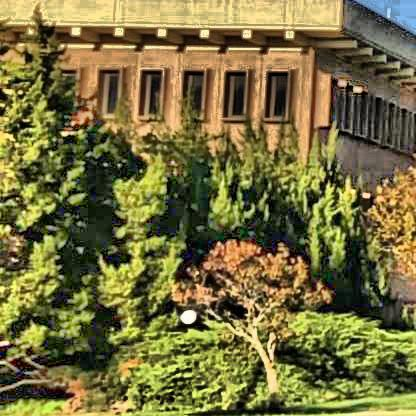golfball: (176, 305, 195, 322)
